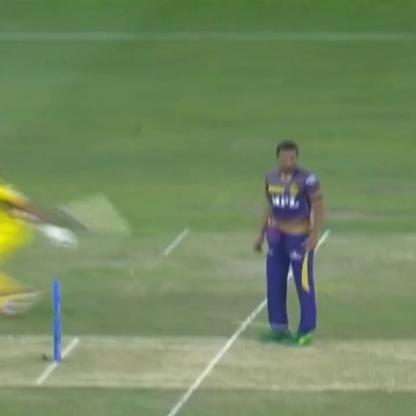bat: (32, 204, 125, 234)
pitch: (4, 327, 416, 408)
